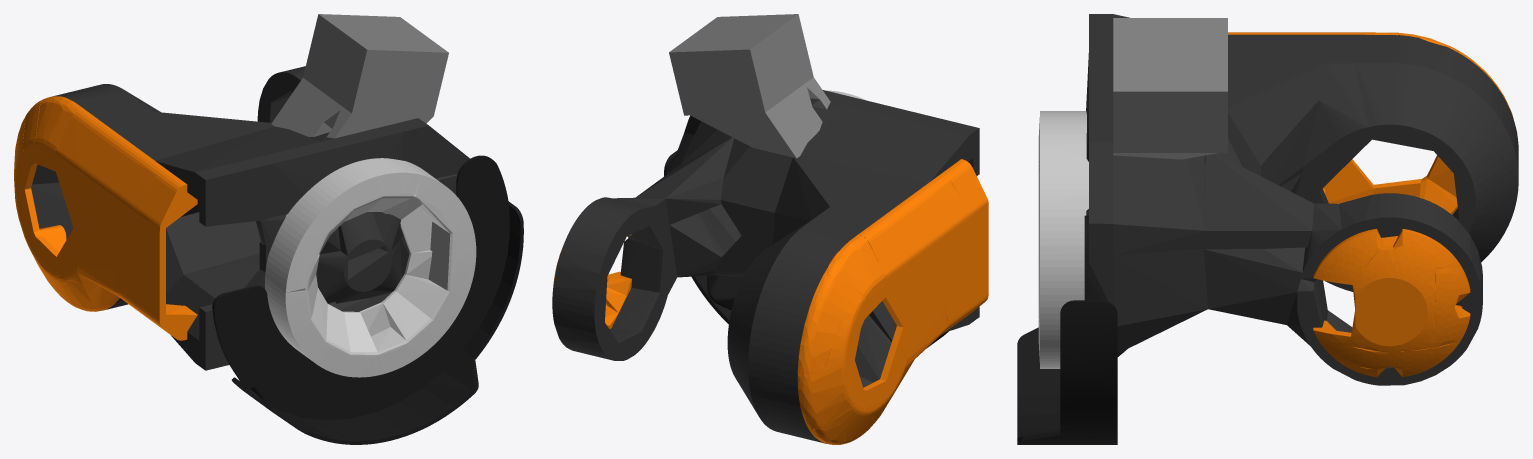
File: RLEG_LINK0_mesh.dae
3 renders of one model, left to right at view 1: azimuth 30°, elevation 25°; view 2: azimuth 150°, elevation 25°; view 3: azimuth 270°, elevation 25°, orthographic. The views are drawn at different scales.
Visible parts, largest first — view 1: RLEG_LINK0 (×8); view 2: RLEG_LINK0 (×8); view 3: RLEG_LINK0 (×8).
Boxes of the visible parts, x1,y1,x2,y2 form: RLEG_LINK0 (×8): (14,14,523,444); RLEG_LINK0 (×8): (552,14,988,444); RLEG_LINK0 (×8): (1017,14,1518,444).
Size of the model in its own units: 0.1575 by 0.1609 by 0.175.
